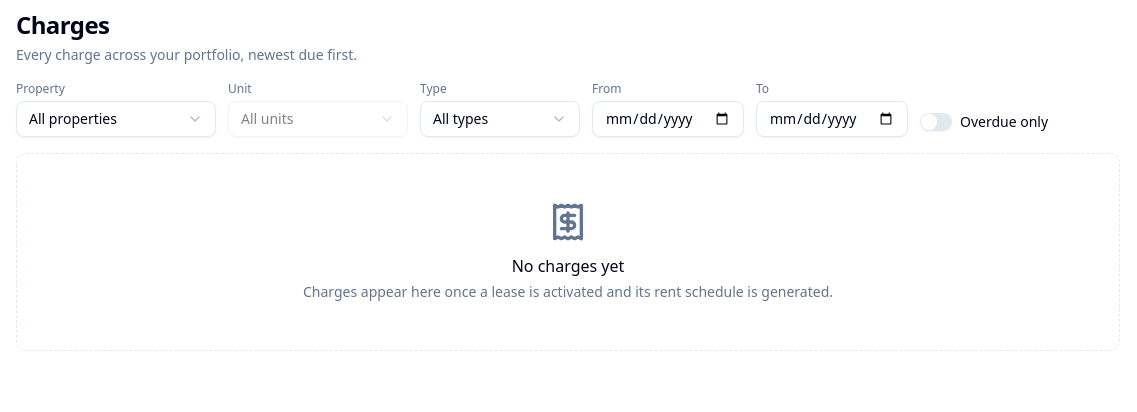
Test: ChargesListPage — the overdue-only toggle can be switched off › sends overdueOnly=true when switched on, then the literal overdueOnly=false when switched off again — and the toggle stays the only state driving it
Expected: the button "clear filters" is not shown
Click the switch named "overdue only" at [936, 122], box [920, 113, 952, 131]
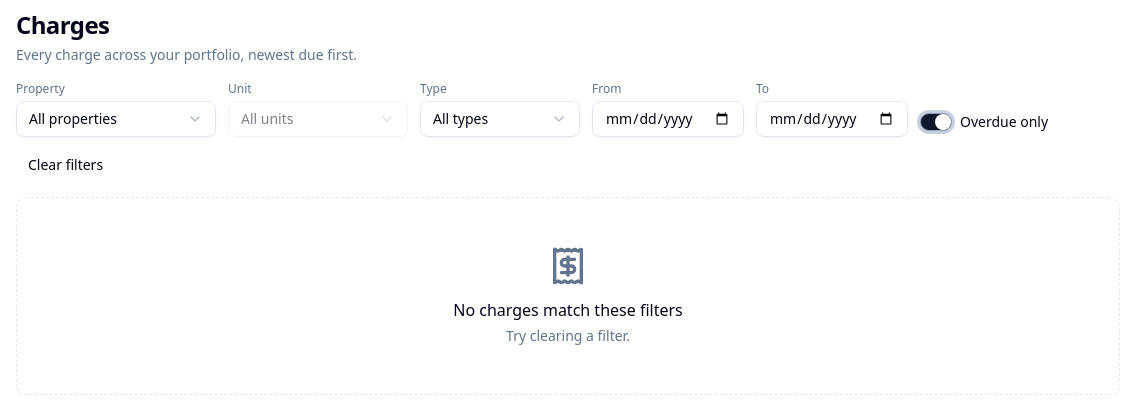
Result: the button "Clear filters" is shown at [16, 149, 115, 181]
Click the switch named "overdue only" at [936, 122], box [920, 113, 952, 131]
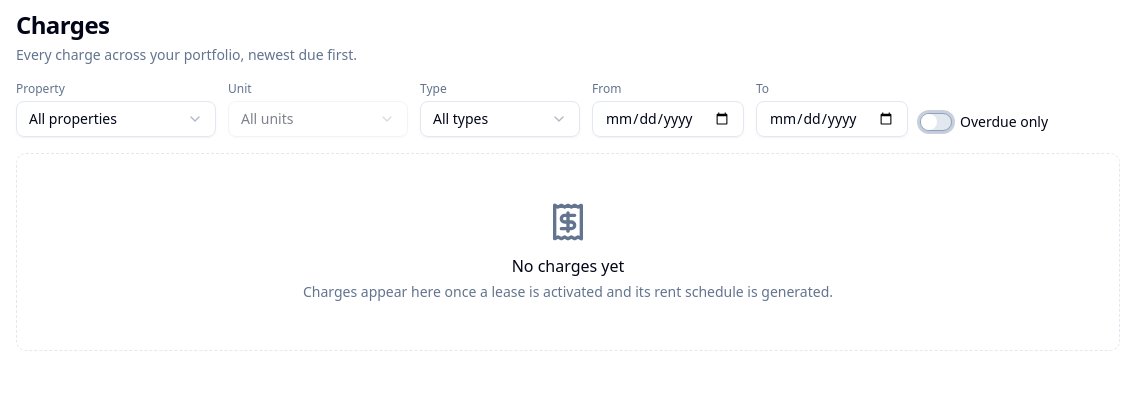
Result: the button "Clear filters" is gone
